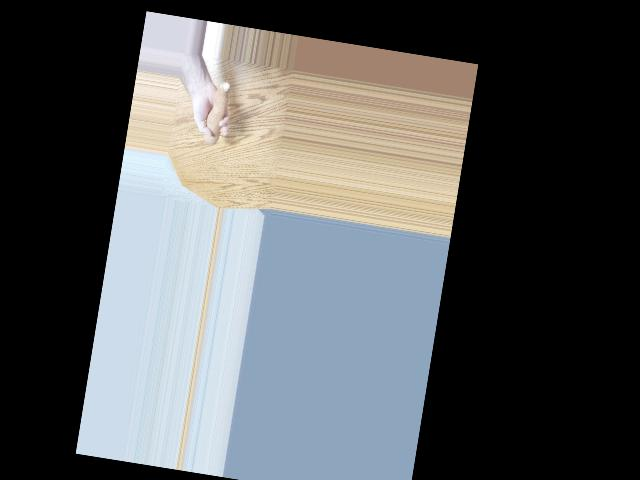sweet_potato: (205, 77, 233, 150)
